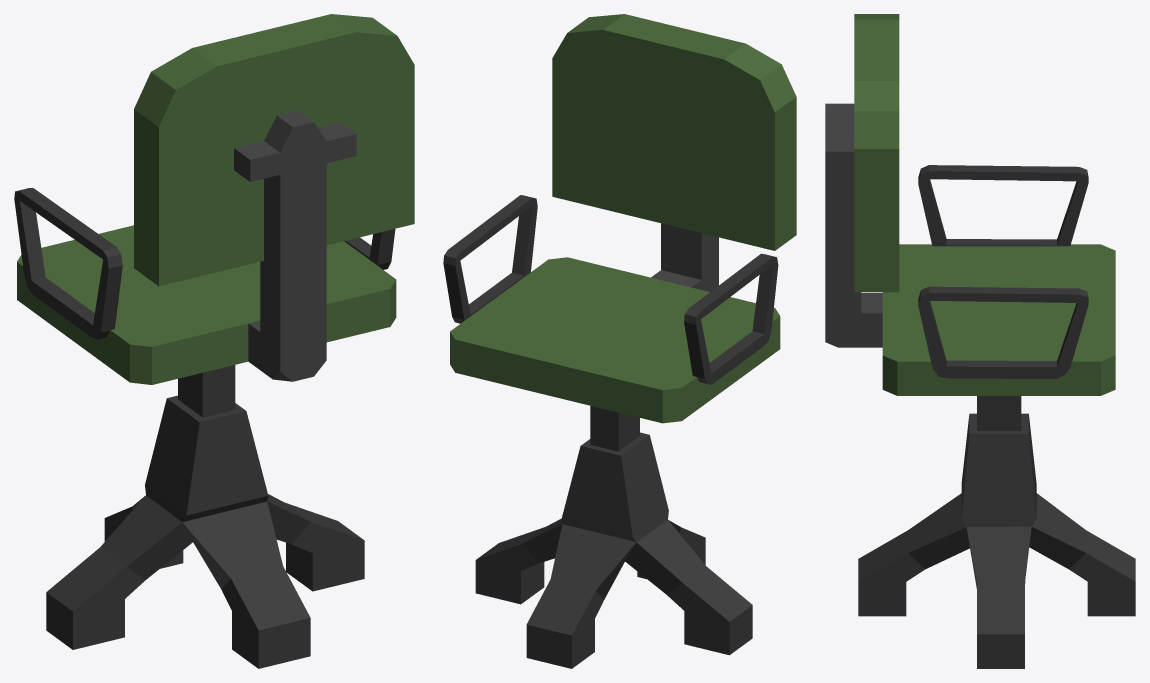
The model's file is Chair.003.fbx.
The picture shows the model from 3 angles, left to right: view 1: azimuth 30°, elevation 25°; view 2: azimuth 150°, elevation 25°; view 3: azimuth 270°, elevation 25°; orthographic projection. The views are drawn at different scales.
Parts seen in each view (by area): view 1: Chair.003; view 2: Chair.003; view 3: Chair.003.
Boxes of the visible parts, <box> form: Chair.003: <box>14,14,414,668</box>; Chair.003: <box>443,14,796,668</box>; Chair.003: <box>825,14,1135,668</box>.
Size of the model in its own units: 183 by 366 by 186.
